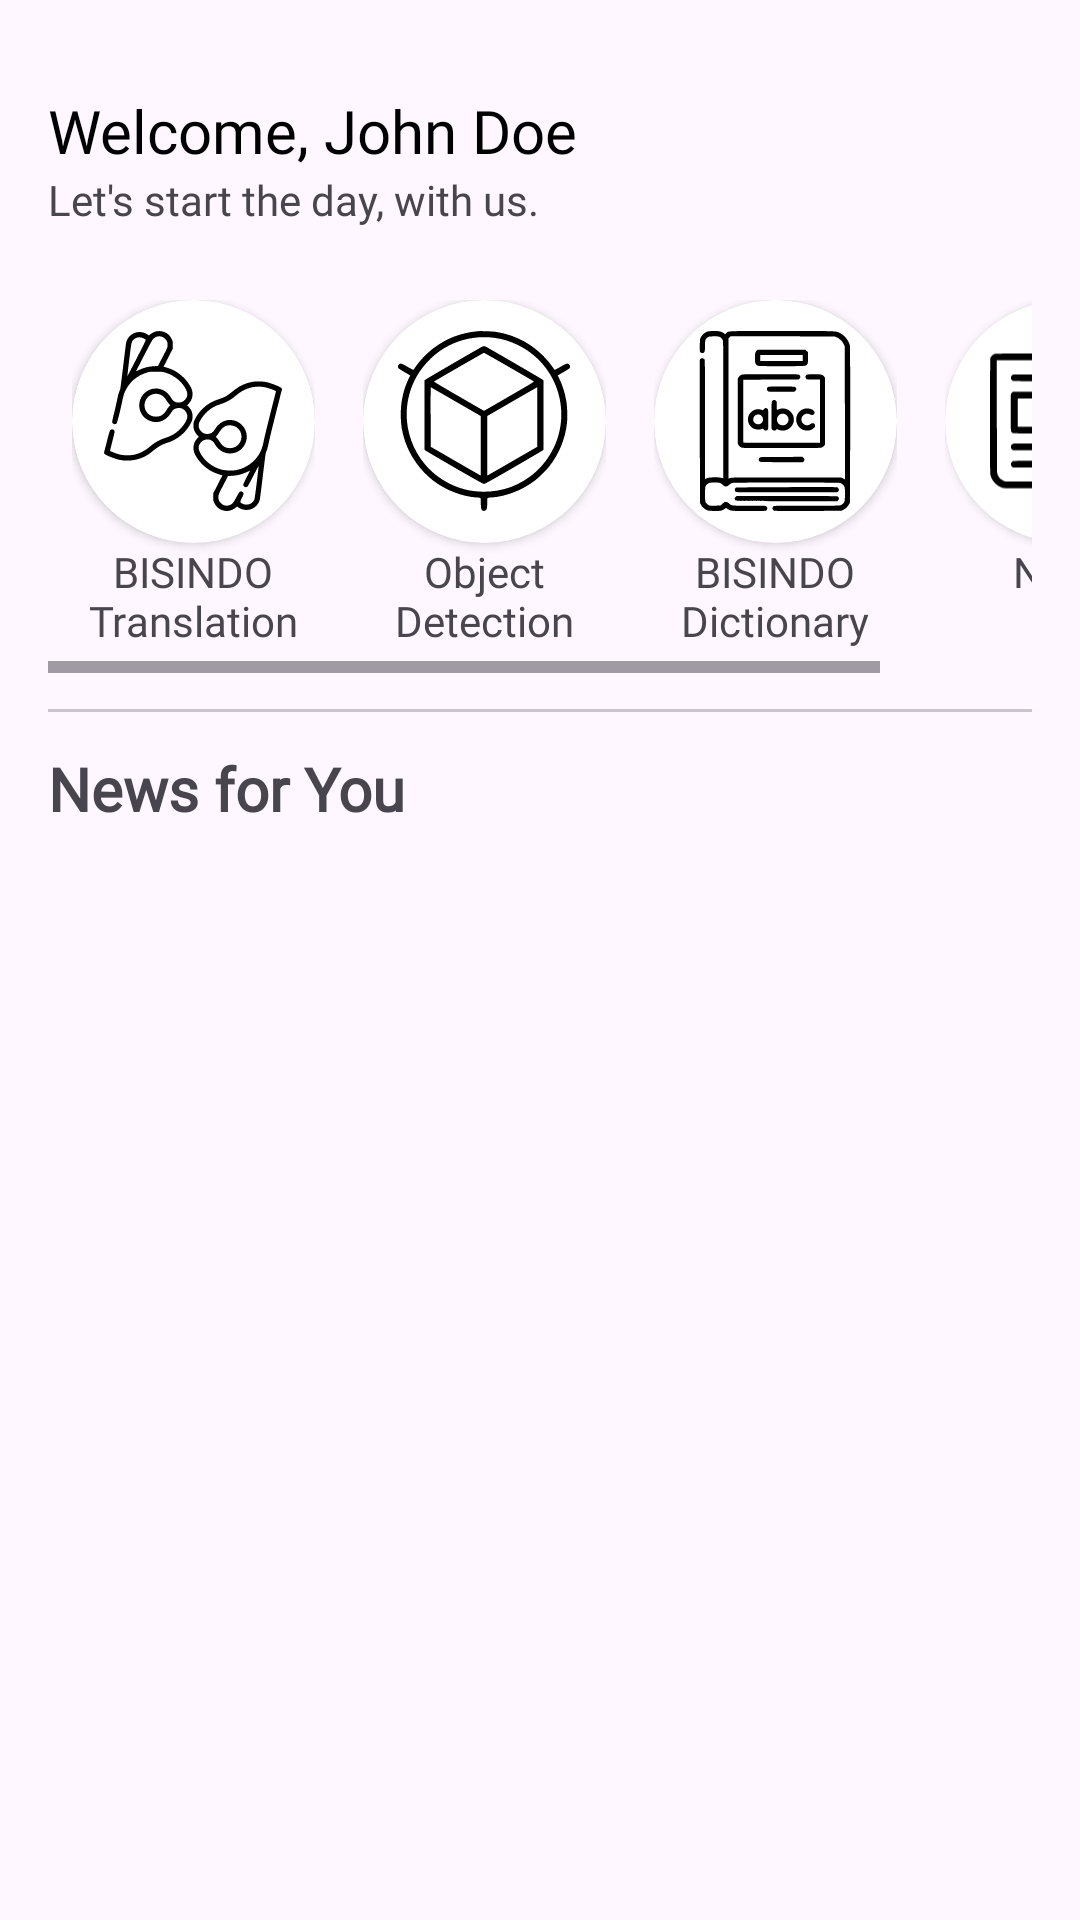

Point at icon controls on the screen. Image size 1080 × 1920, points as (x=x, y=y).
sign translate: (x=193, y=421)
